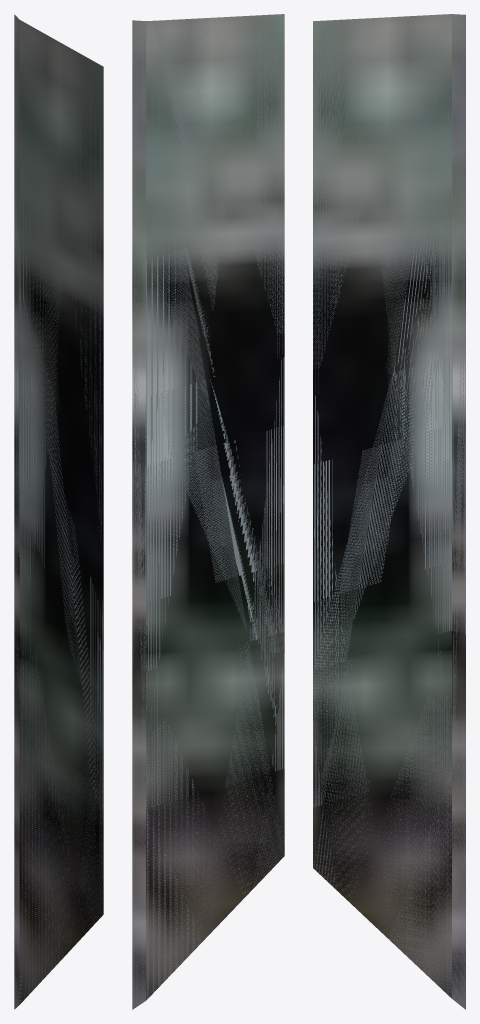
File: 西庸城堡248.dae
3 views of the same model, side by side, from view 1: azimuth 90°, elevation 25°; view 2: azimuth 150°, elevation 25°; view 3: azimuth 330°, elevation 25° (orthographic).
Visible parts, largest first — view 1: SketchUp; view 2: SketchUp; view 3: SketchUp.
Boxes of the visible parts, x1,y1,x2,y2 form: SketchUp: (14,14,103,1009); SketchUp: (132,14,284,1009); SketchUp: (313,14,465,1009).
Bounding box in the file's own units: 9.9 × 7.09 × 87.01.
